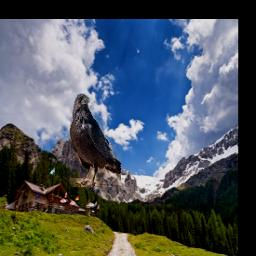Crow: (71, 93, 122, 187)
